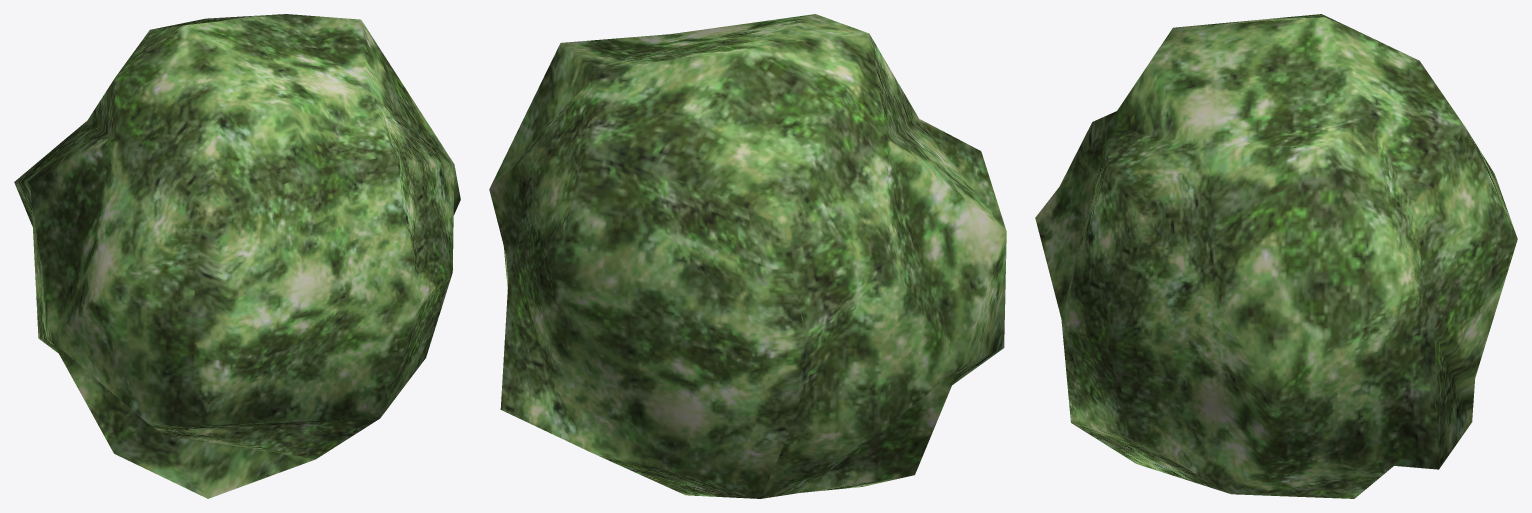
File: asteroid_acid_large_s02_l3.fbx
3 views of the same model, side by side, from view 1: azimuth 30°, elevation 25°; view 2: azimuth 150°, elevation 25°; view 3: azimuth 270°, elevation 25° (orthographic). The views are drawn at different scales.
Parts seen in each view (by area): view 1: mesh_node; view 2: mesh_node; view 3: mesh_node.
Boxes of the visible parts, left/top/right/bottom form: mesh_node: left=14, top=14, right=460, bottom=498; mesh_node: left=489, top=14, right=1006, bottom=498; mesh_node: left=1035, top=14, right=1517, bottom=498.
Size of the model in its own units: 116 by 114 by 107.
Materials: 1 (1 with a texture image).
